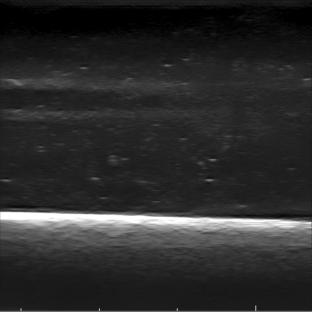vessel: (0, 74, 164, 122)
